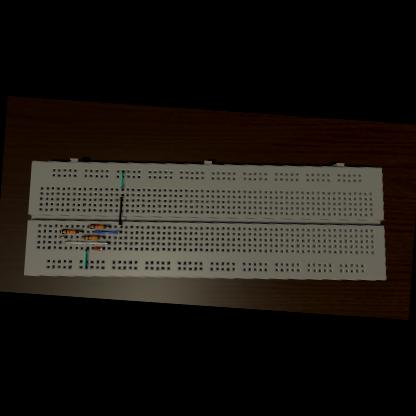breadboard: (24, 142, 394, 300)
resistor: (90, 224, 106, 230), (84, 235, 100, 241), (62, 230, 78, 235)
wire: (64, 239, 110, 246), (119, 194, 124, 228), (92, 230, 121, 235), (83, 248, 88, 268), (120, 172, 125, 190), (92, 248, 106, 252), (60, 236, 68, 240), (106, 226, 112, 228), (78, 232, 84, 233), (100, 237, 106, 238), (88, 226, 90, 227), (80, 237, 82, 238), (60, 231, 60, 232)
